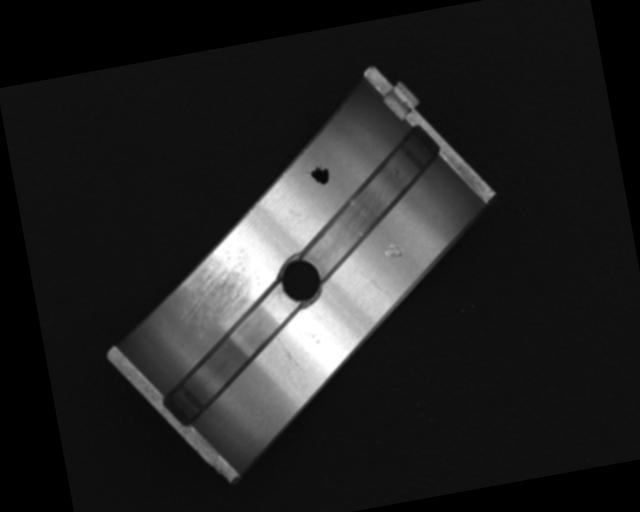blot: (307, 162, 332, 187)
bruise: (382, 240, 406, 261)
gap: (285, 129, 451, 277), (148, 292, 310, 430)
hole: (274, 253, 326, 308)
nick: (276, 330, 304, 382), (357, 265, 388, 298)
scratch: (167, 243, 264, 332)
